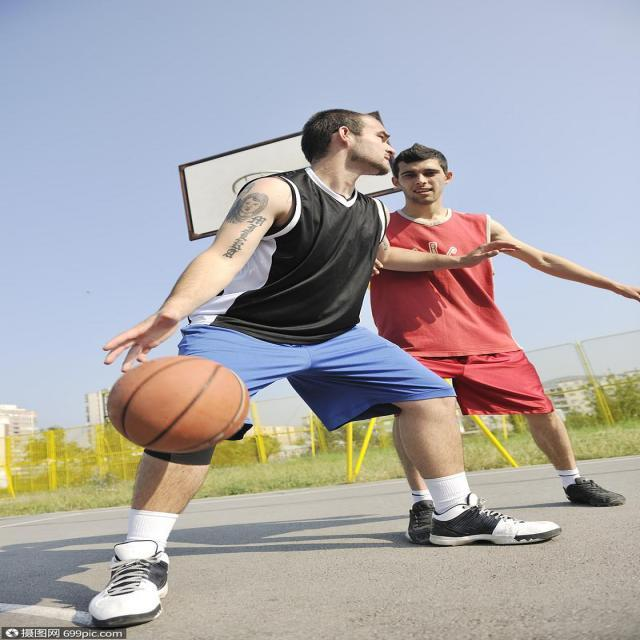rim: (115, 356, 246, 452)
